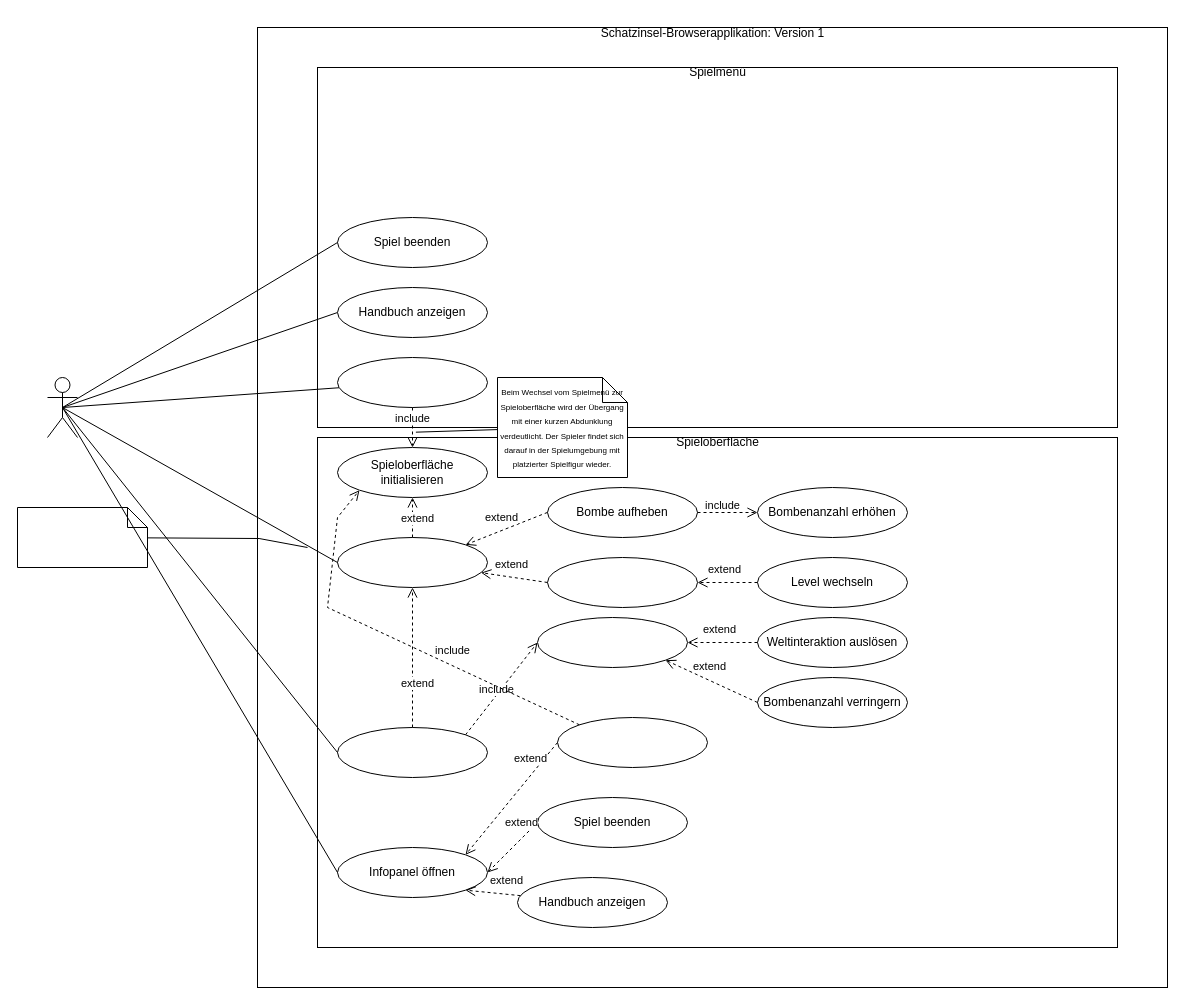
Some shapes in this 1185 by 1005 pixel diagram are drawn without their labels. The centre of each missing label's shape, as x and y in pixels:
"Bombe platzieren" belongs at (x=412, y=752).
"Bombenanzahl überprüfen" belongs at (x=612, y=642).
"Die Bewegung der Spielfigur sollte über die Pfeiltasten gewährleistet sein" belongs at (x=82, y=537).
"Level abschließen" belongs at (x=622, y=582).
"Spiel neustarten" belongs at (x=632, y=742).
"Spiel starten" belongs at (x=412, y=382).
"Spieler" belongs at (x=62, y=407).
"Spielfigur bewegen" belongs at (x=412, y=562).
